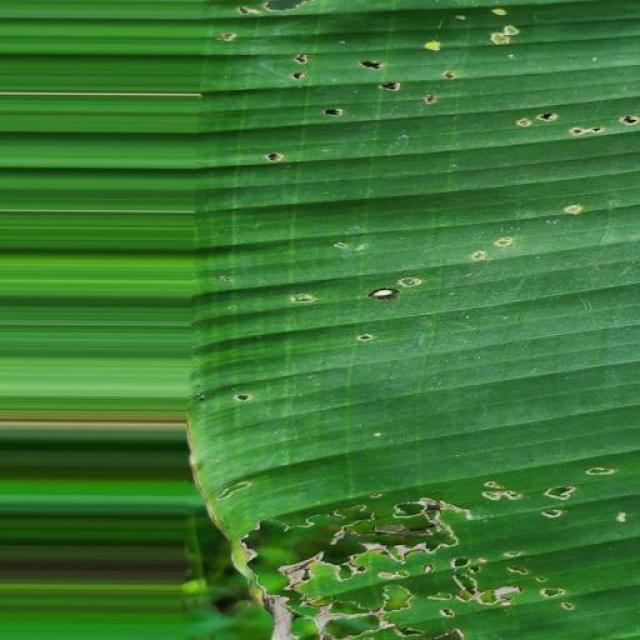Black_rot: (189, 0, 640, 634)
